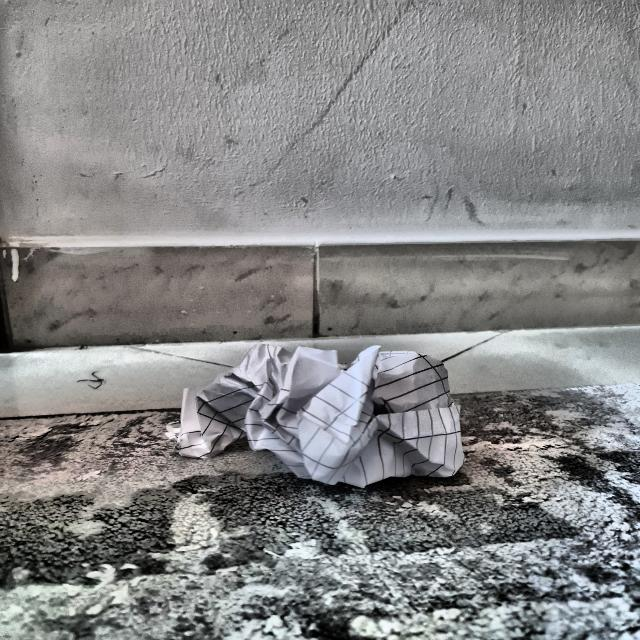Paper: (159, 343, 467, 483)
